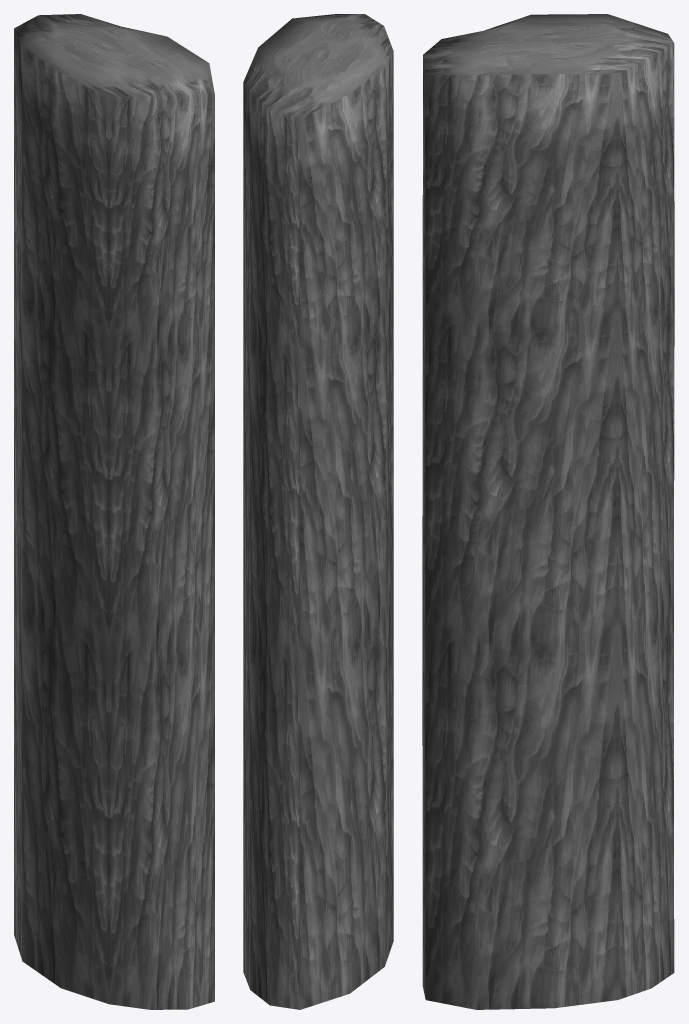
File: SWORDLIGHT20_PS-AREA01 PLATFORM01.obj
3 views of the same model, side by side, from view 1: azimuth 30°, elevation 25°; view 2: azimuth 150°, elevation 25°; view 3: azimuth 270°, elevation 25° (orthographic). The views are drawn at different scales.
Visible parts, largest first — view 1: ea01 Platform01; view 2: ea01 Platform01; view 3: ea01 Platform01.
Boxes of the visible parts, left/top/right/bottom form: ea01 Platform01: left=14, top=14, right=214, bottom=1009; ea01 Platform01: left=243, top=14, right=393, bottom=1009; ea01 Platform01: left=422, top=14, right=674, bottom=1009.
Size of the model in its own units: 300 by 2142 by 520.
